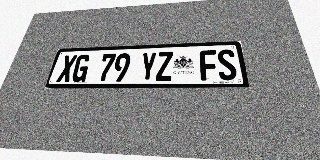7: (96, 53, 116, 82)
9: (112, 53, 131, 82)
F: (199, 50, 219, 80)
G: (70, 54, 91, 82)
S: (216, 49, 238, 80)
X: (56, 55, 77, 82)
Y: (139, 52, 157, 81)
Z: (156, 51, 173, 81)
